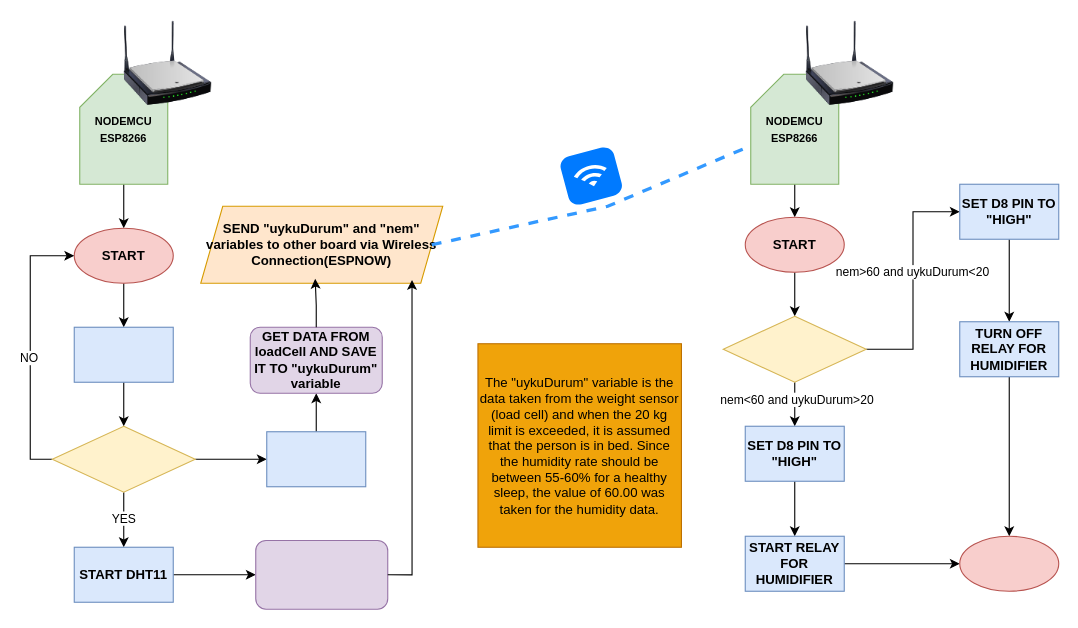
This 1078x628 diagram has some shape labels left out. Here are the shapes that lost their labels. From the top down, the box of each, then its label:
(73, 326, 173, 382): ESPNOW COMMANDS
(722, 315, 866, 382): READ COMING DATA FROM OTHER BOARD
(51, 425, 195, 492): IS ESPNOW COMMUNICATION HAS STARTED?
(266, 431, 366, 487): START LOAD CELL
(255, 539, 388, 609): GET DATA FROM DHT11 AND SAVE IT TO "nem" variable
(959, 535, 1059, 591): FINISH
